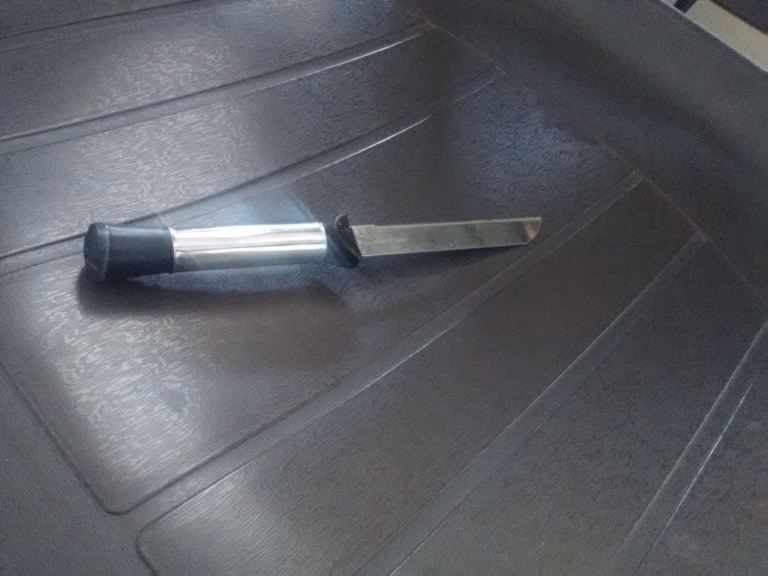knife: (80, 213, 544, 287)
